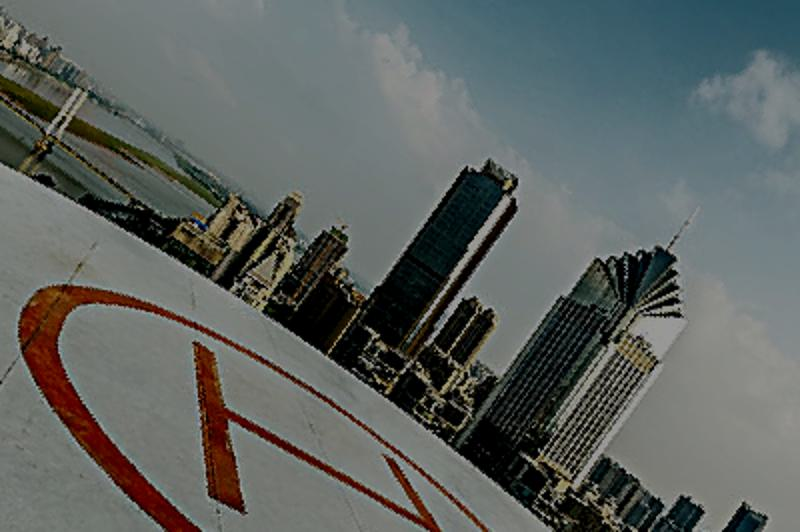Apron: (10, 263, 583, 532)
